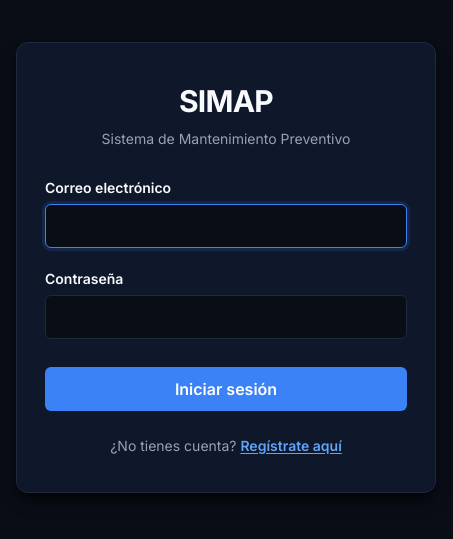
Test: LoginPage › muestra error de validación ante formato de correo inválido
Type "correo-no-valido" into the field labelled "Correo electrónico" at (226, 226), box [45,204,407,248]
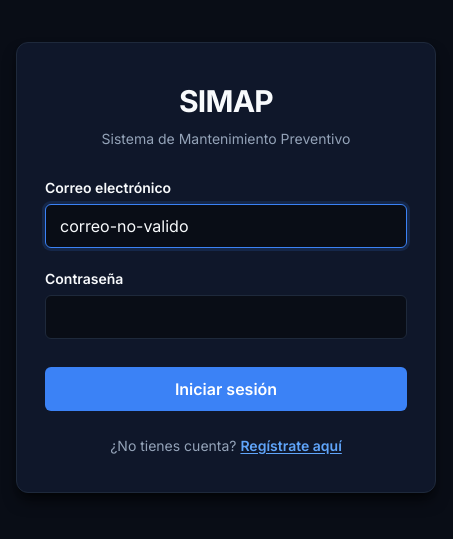
Click the button "Iniciar sesión" at (226, 388), box [45,366,407,410]
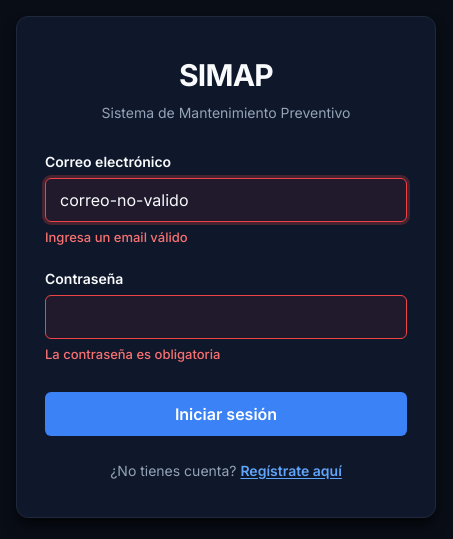
expect the text "Ingresa un email válido" is shown: met, box [45,229,188,245]
